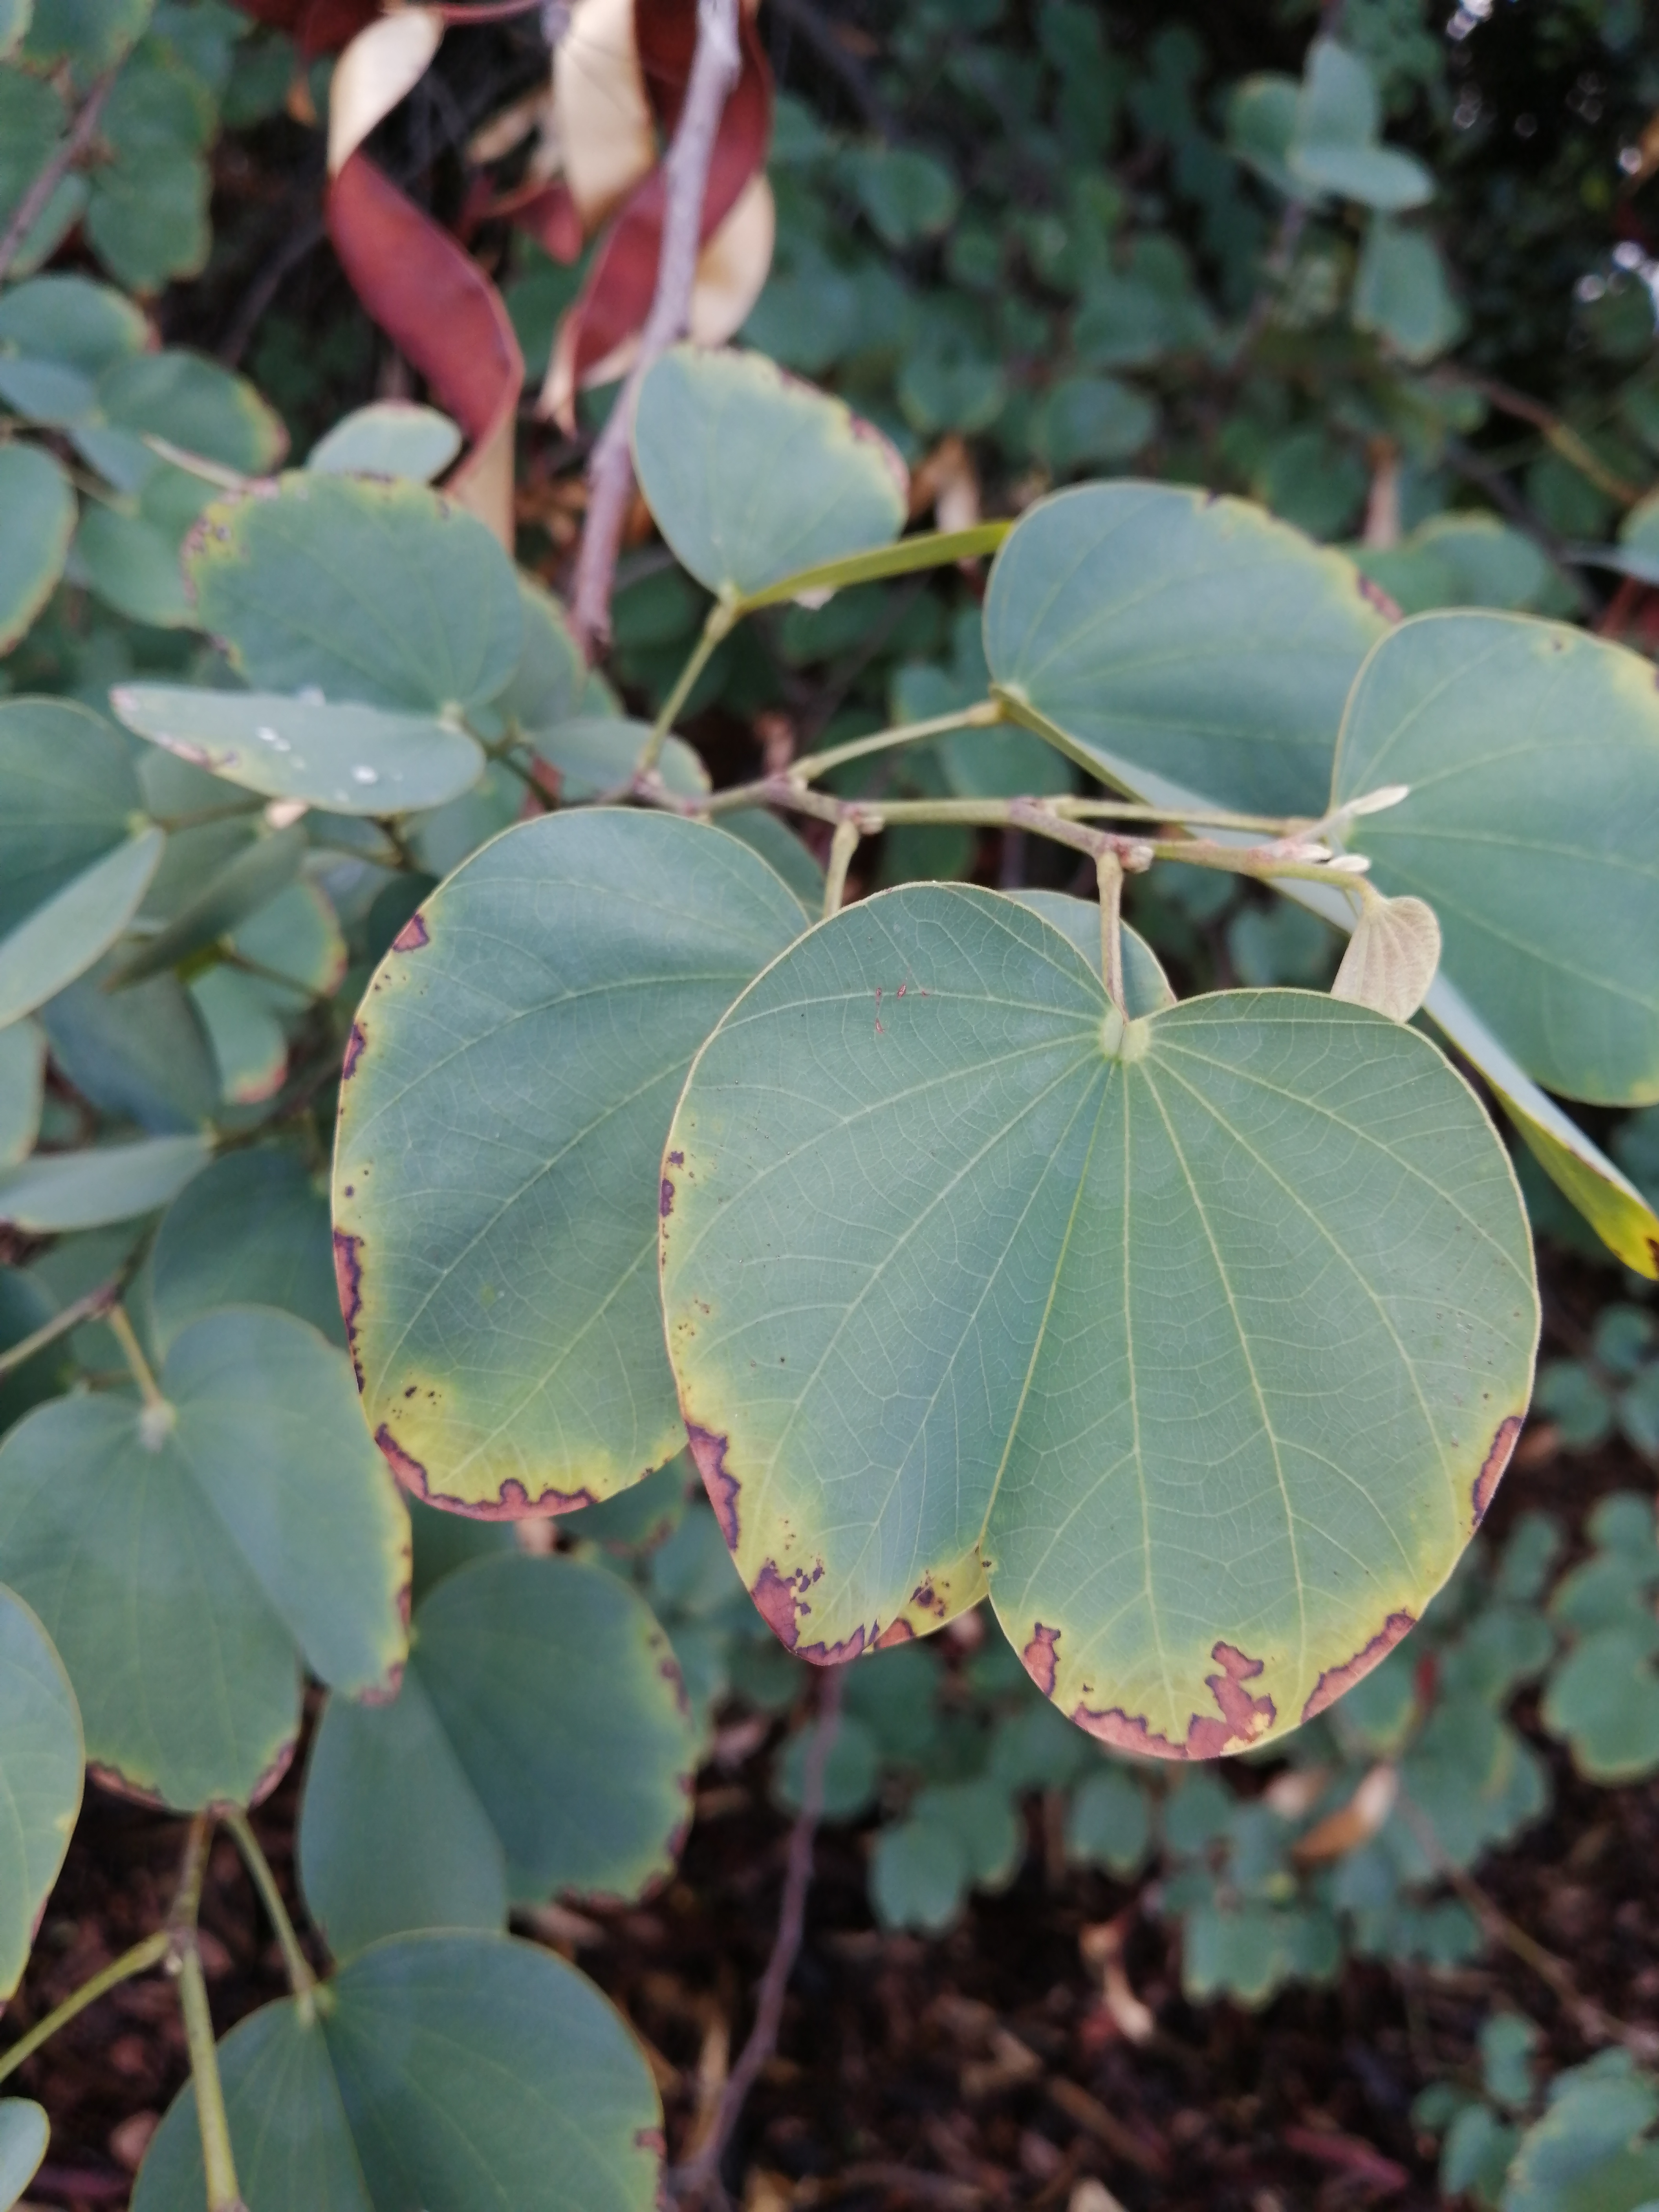nothealthy: (629, 848, 1614, 1768), (21, 1158, 415, 1914)
